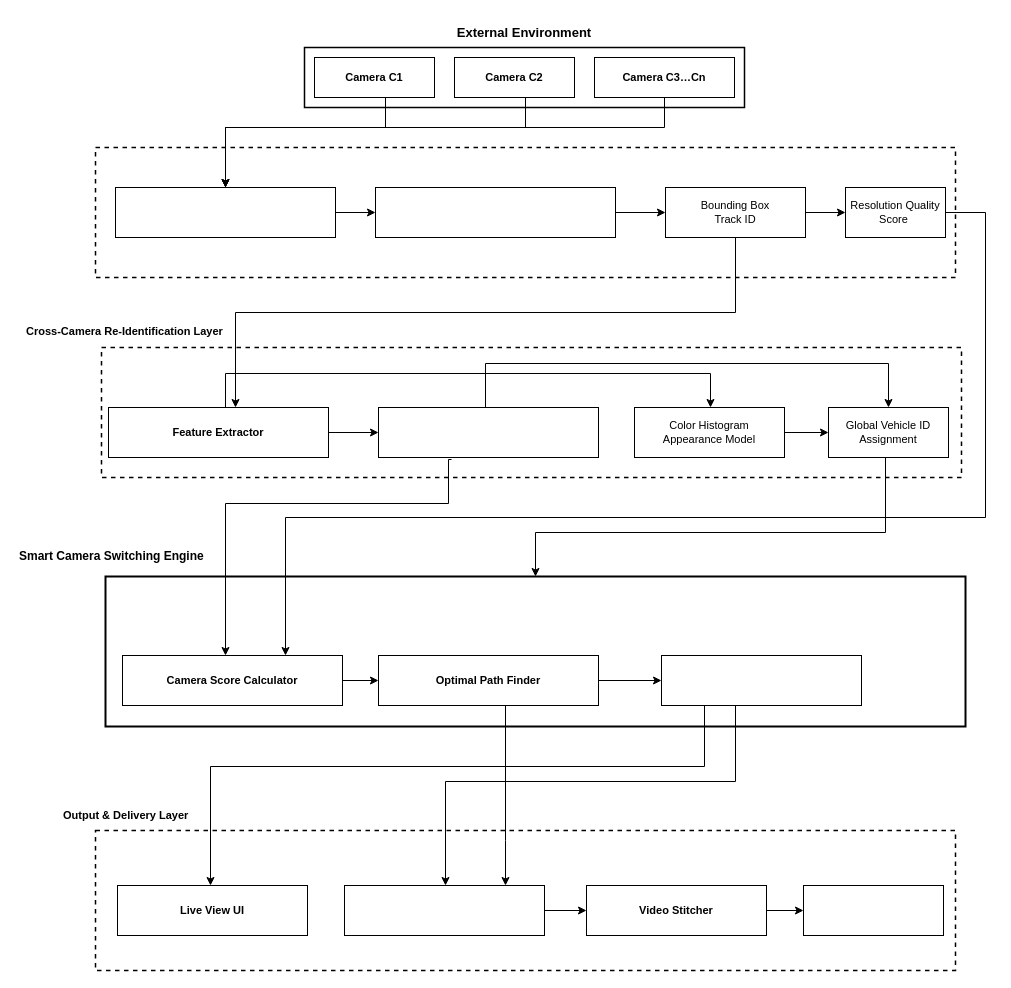
This 1011x988 diagram has some shape labels left out. Here are the shapes that lost their labels. From the top down, the centre of each, then its label:
the point at 225,212: Vehicle Detector (Per-Camera Frame Processing)
the point at 495,212: Single-Camera Tracker
the point at 488,432: Cosine Similarity Matcher
the point at 761,680: Smooth Transition Manager
the point at 444,910: Clip Storage Module (Per-Camera Footage Segments)
the point at 873,910: Email Delivery (Send to Recipient)
